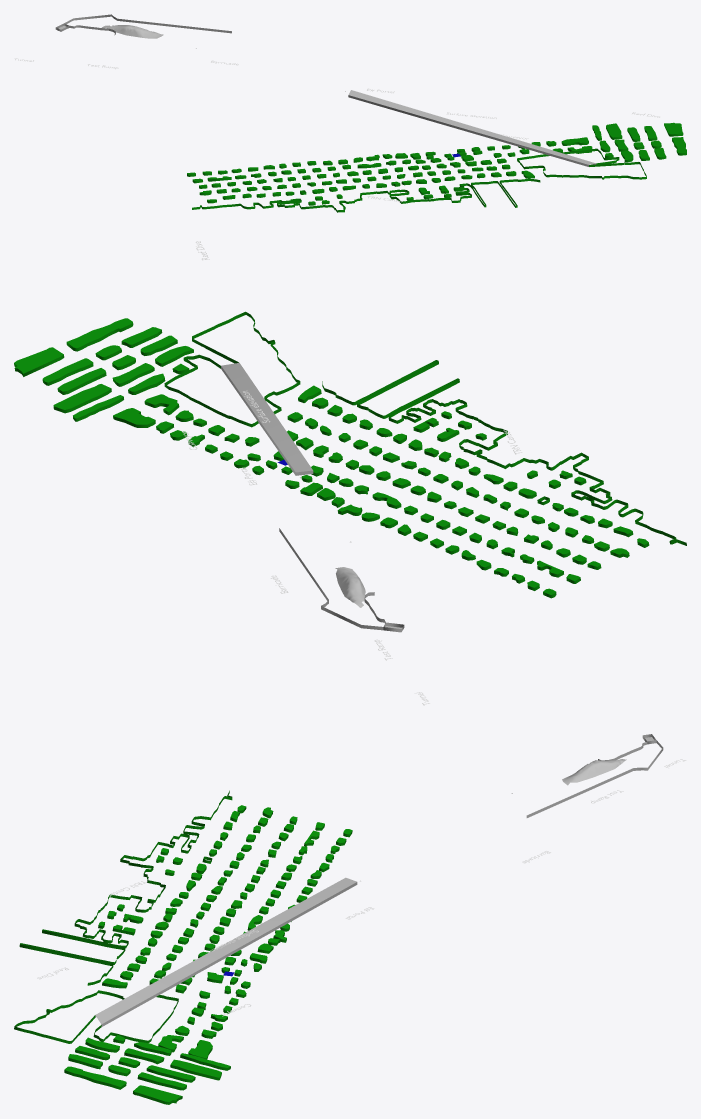
Rendered from Mine test.fbx.
3 renders of one model, top to bottom at view 1: azimuth 30°, elevation 25°; view 2: azimuth 150°, elevation 25°; view 3: azimuth 270°, elevation 25°, orthographic. The views are drawn at different scales.
Visible parts, largest first — view 1: Geometry: 154, Geometry: 19, Geometry: 166, Geometry: 157, Geometry: 180, Geometry: 4, Geometry: 160; view 2: Geometry: 154, Geometry: 19, Geometry: 166, Geometry: 157, Geometry: 4; view 3: Geometry: 154, Geometry: 166, Geometry: 19, Geometry: 157, Geometry: 180, Geometry: 4.
Part boxes in pixels (box(x1,y1,x2,y2)): Geometry: 154: box(187, 122, 686, 203); Geometry: 19: box(192, 178, 540, 212); Geometry: 166: box(348, 90, 595, 164); Geometry: 157: box(517, 148, 646, 179); Geometry: 180: box(58, 25, 596, 166); Geometry: 4: box(102, 25, 163, 38); Geometry: 160: box(64, 14, 231, 33); Geometry: 154: box(14, 318, 648, 594); Geometry: 19: box(322, 360, 686, 545); Geometry: 166: box(221, 362, 312, 472); Geometry: 157: box(164, 311, 300, 427); Geometry: 4: box(335, 567, 365, 607); Geometry: 154: box(65, 805, 352, 1101); Geometry: 166: box(95, 877, 356, 1024); Geometry: 19: box(19, 790, 232, 985); Geometry: 157: box(14, 990, 178, 1043); Geometry: 180: box(95, 737, 654, 1027); Geometry: 4: box(562, 759, 626, 785).
Size of the model in its own units: 440 by 70.81 by 419.
